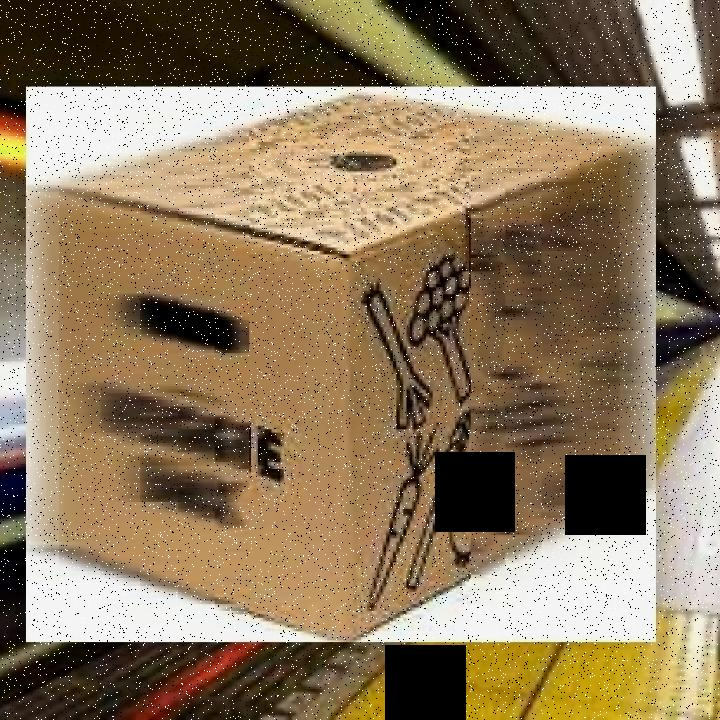box: (16, 80, 668, 650)
